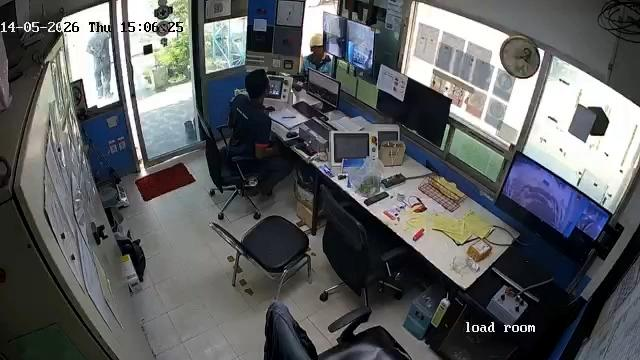Head: (246, 68, 273, 98)
People: (228, 66, 292, 200)
Phone: (264, 105, 276, 113)
